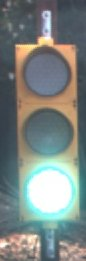Green: (16, 37, 76, 230)
